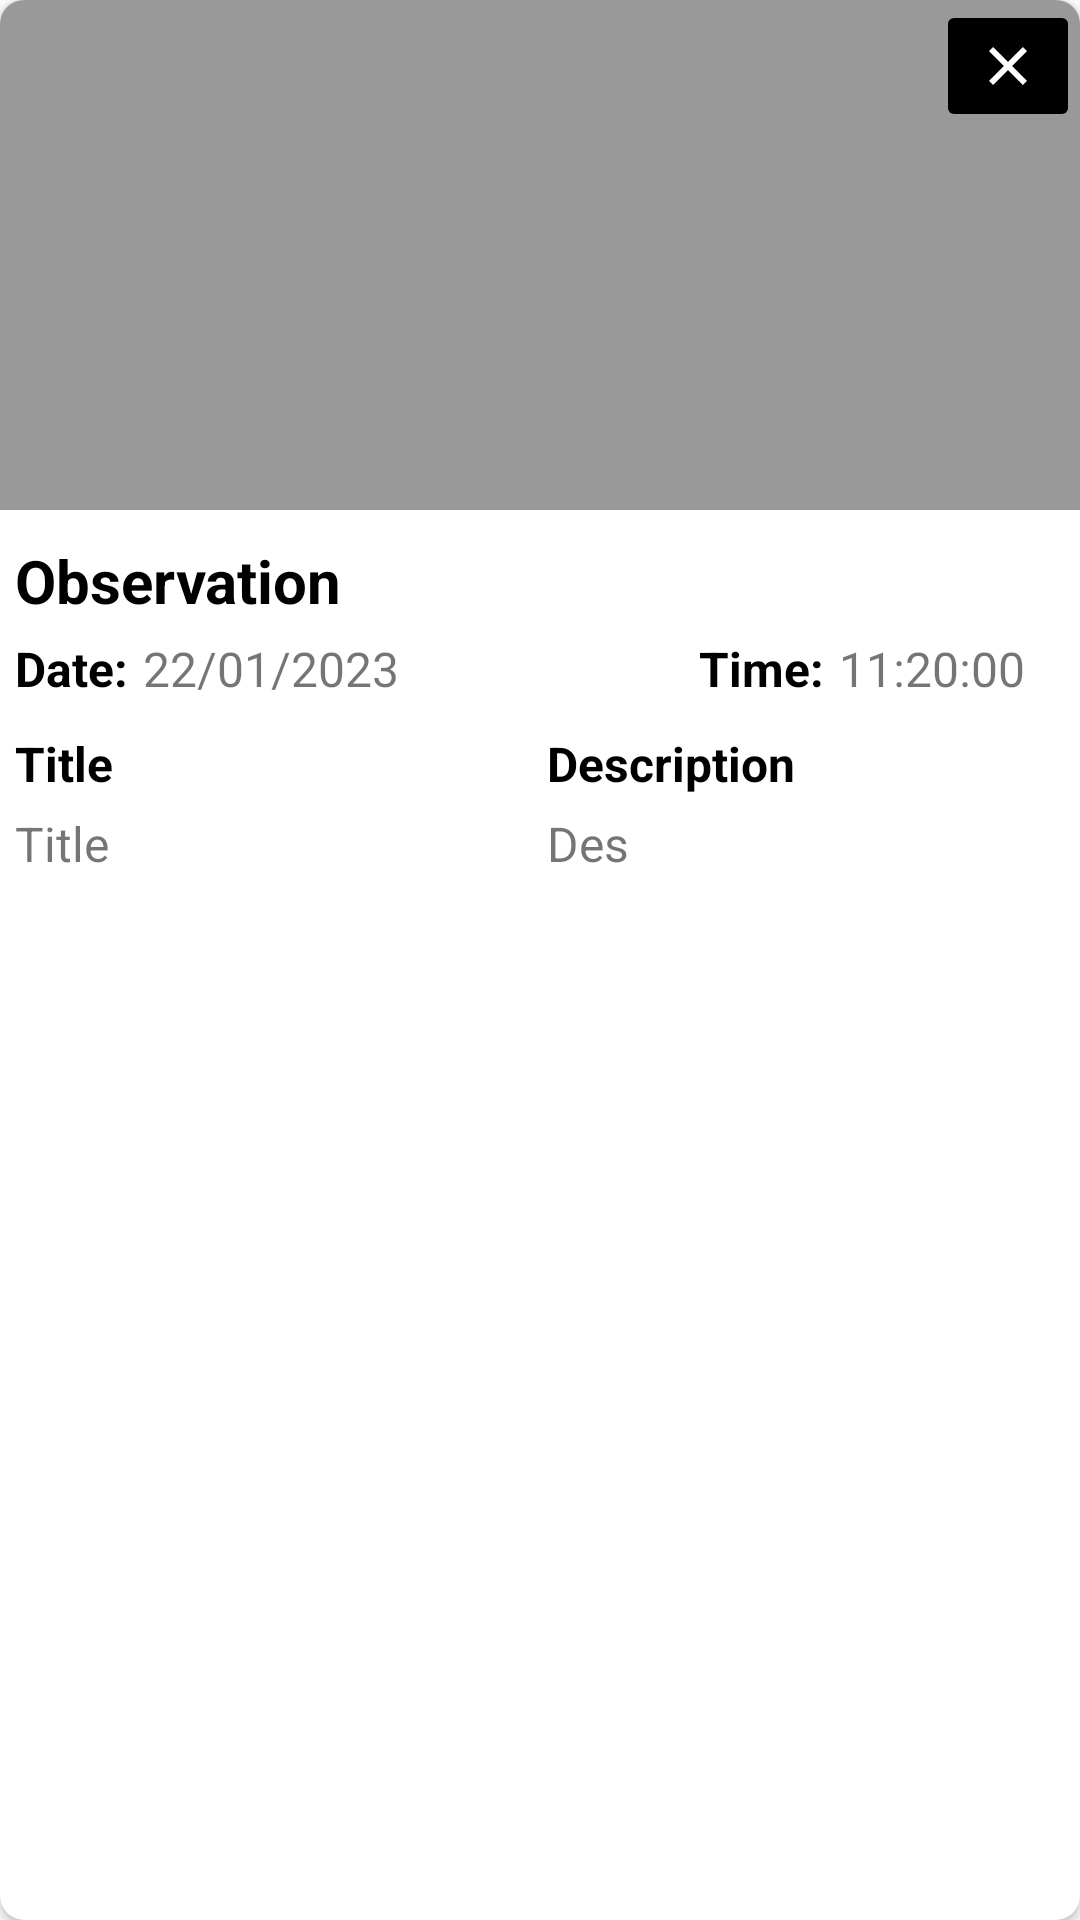

Point at icon controls on the screen. Image size 1080 x 1920, points as point (x, y).
close: point (1014, 57)
